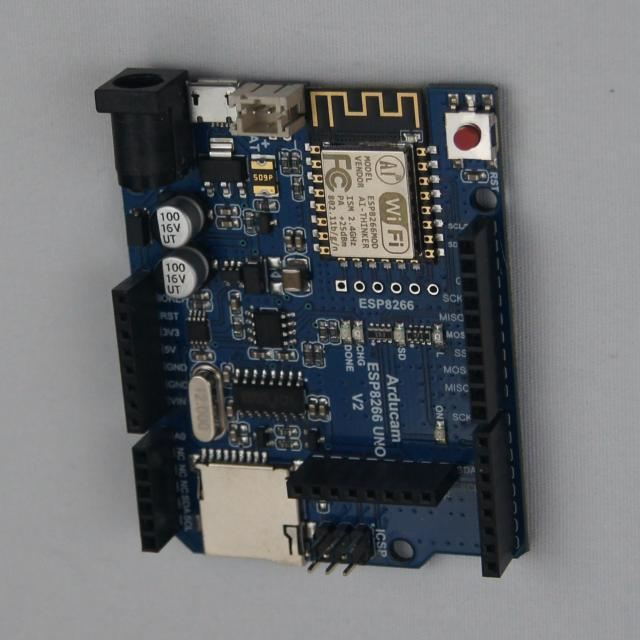Arduino Uno Camera Shield: (96, 69, 527, 576)
